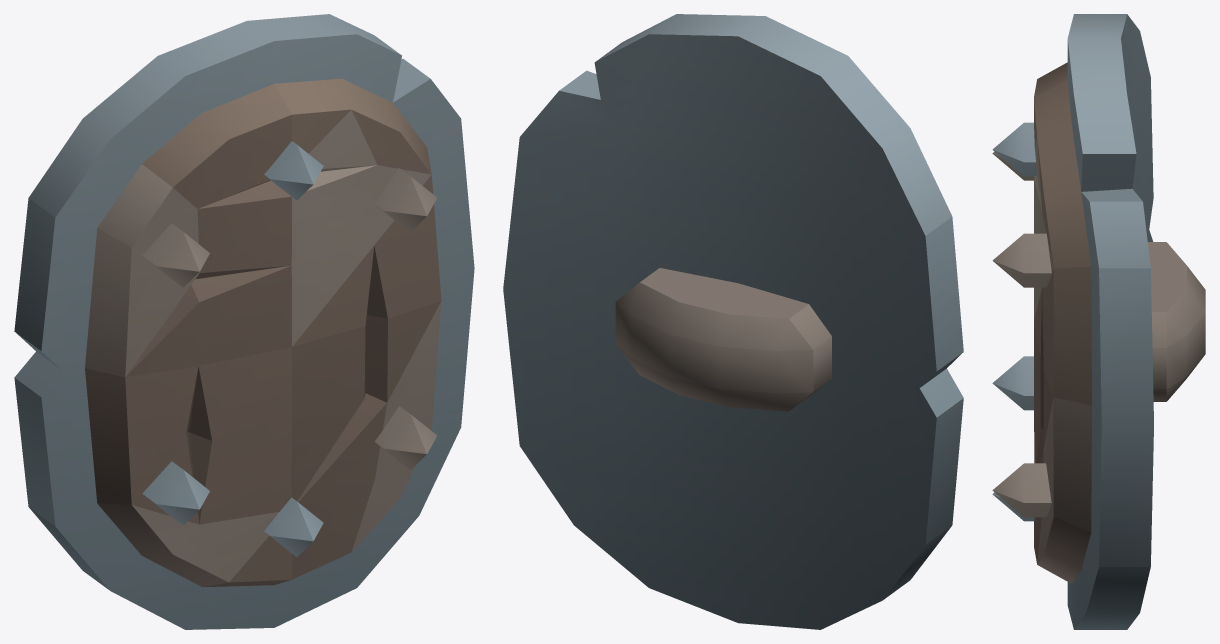
The model's file is Skeleton_Shield_Large_B.glb.
The picture shows the model from 3 angles, left to right: view 1: azimuth 30°, elevation 25°; view 2: azimuth 150°, elevation 25°; view 3: azimuth 270°, elevation 25°; orthographic projection. The views are drawn at different scales.
Visible parts, largest first — view 1: Skeleton_Shield_Large_B; view 2: Skeleton_Shield_Large_B; view 3: Skeleton_Shield_Large_B.
Boxes of the visible parts, bbox=[...] form: Skeleton_Shield_Large_B: bbox=[14, 14, 474, 629]; Skeleton_Shield_Large_B: bbox=[503, 14, 963, 629]; Skeleton_Shield_Large_B: bbox=[992, 14, 1205, 629].
Bounding box in the file's own units: 0.8771 × 1.13 × 0.387.
1 material, 1 textured.
